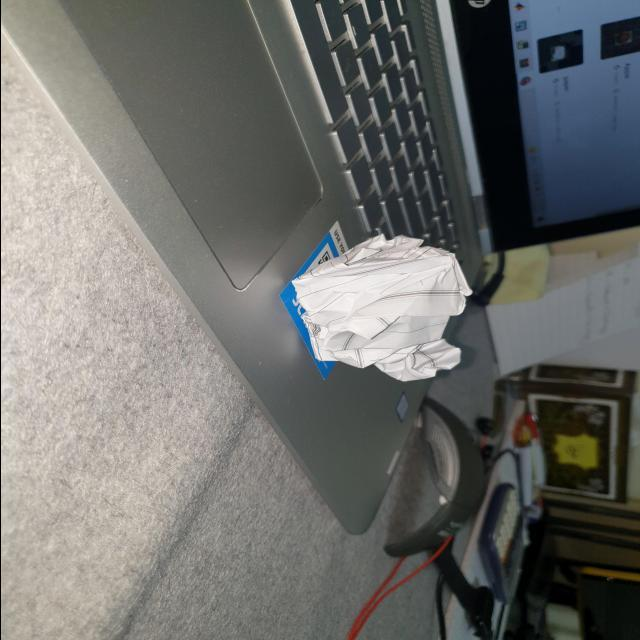Paper: (276, 219, 480, 396)
